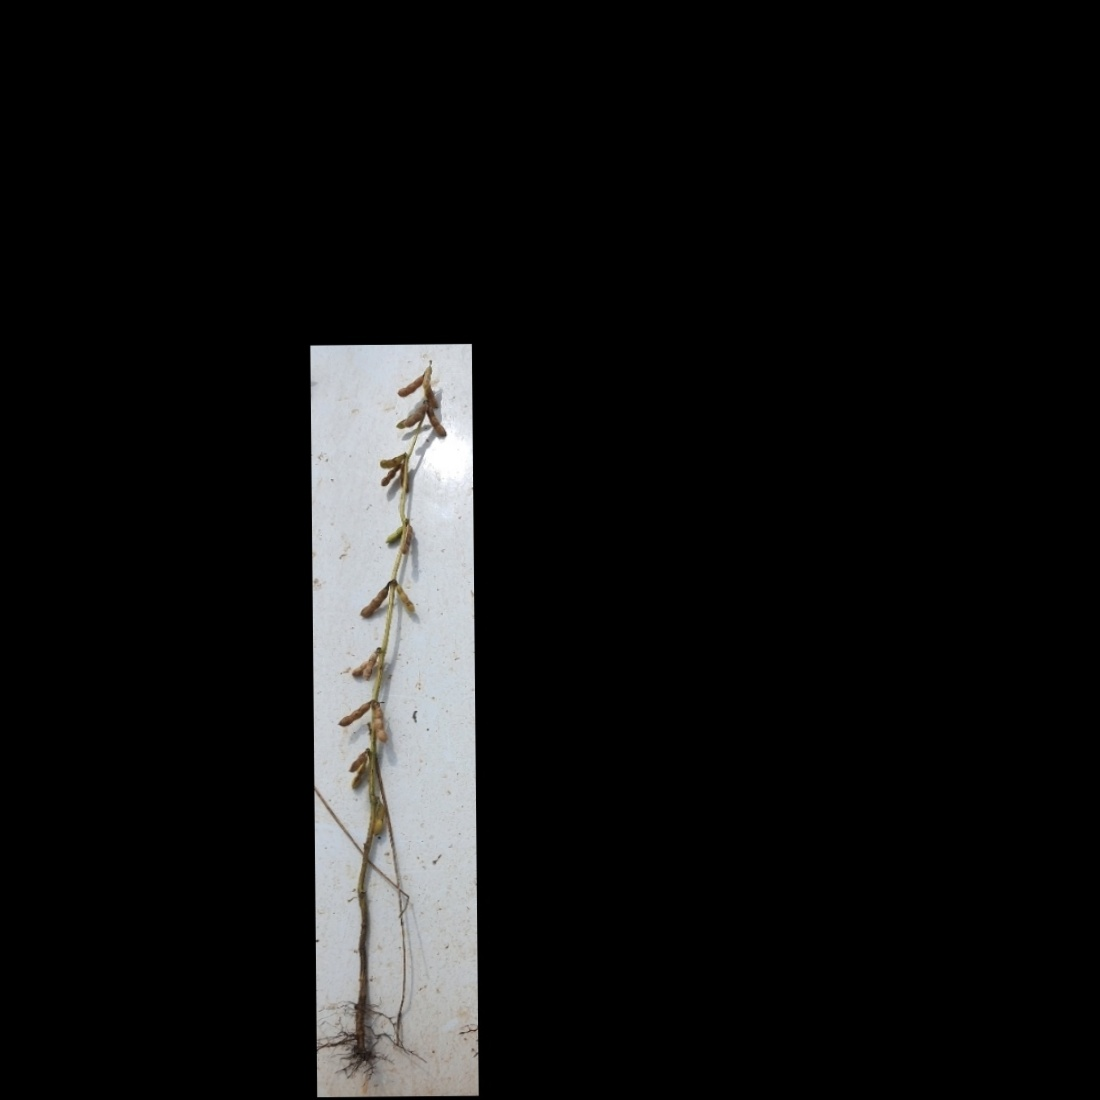pod: (358, 580, 391, 618), (336, 699, 371, 729), (388, 577, 415, 613), (368, 701, 389, 743), (395, 372, 423, 397), (426, 408, 448, 439), (382, 520, 405, 543), (379, 465, 401, 489), (373, 799, 386, 837), (400, 524, 411, 555)
soy: (315, 358, 465, 1073)
